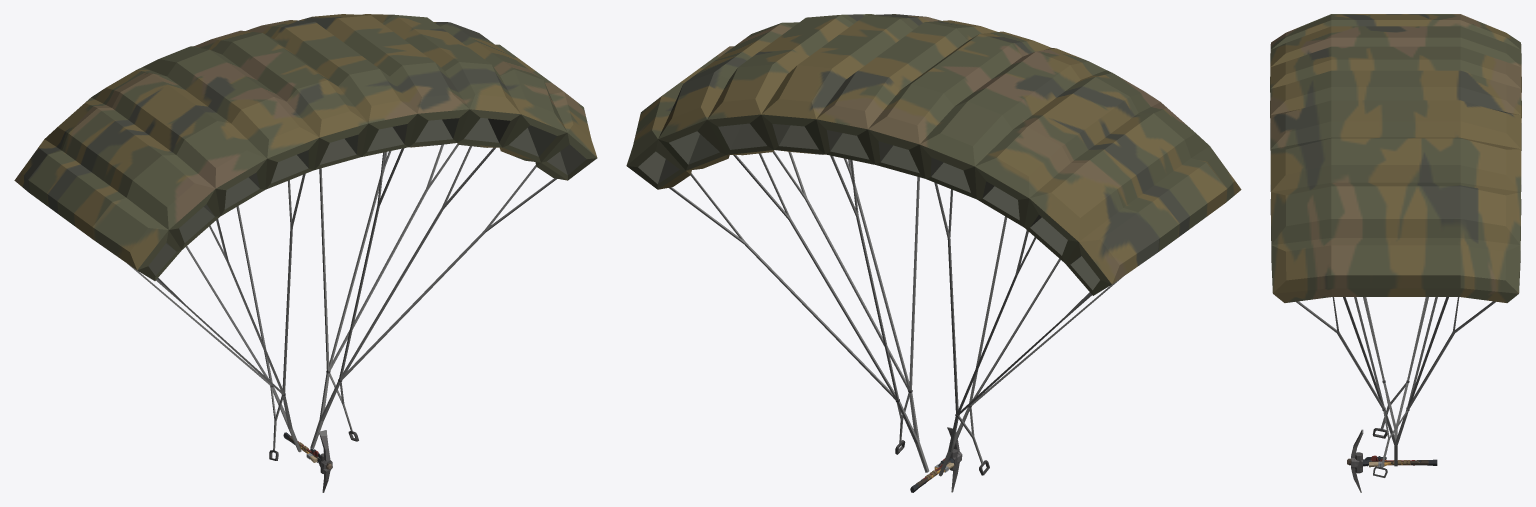
Rendered from tools.glb.
The picture shows the model from 3 angles, left to right: view 1: azimuth 30°, elevation 25°; view 2: azimuth 150°, elevation 25°; view 3: azimuth 270°, elevation 25°; orthographic projection. The views are drawn at different scales.
Parts seen in each view (by area): view 1: SM_Prop_Parachute_01; view 2: SM_Prop_Parachute_01; view 3: SM_Prop_Parachute_01, SM_Wep_Pickaxe_01, SM_Tool_Hammer_Sledge.
Part boxes in pixels (left/top/right/bottom): SM_Prop_Parachute_01: left=14, top=14, right=597, bottom=460; SM_Prop_Parachute_01: left=626, top=14, right=1241, bottom=476; SM_Prop_Parachute_01: left=1270, top=14, right=1521, bottom=477; SM_Wep_Pickaxe_01: left=1347, top=429, right=1428, bottom=492; SM_Tool_Hammer_Sledge: left=1355, top=452, right=1437, bottom=473.
Size of the model in its own units: 6.78 by 5.62 by 3.
Materials: 2 (2 with a texture image).
